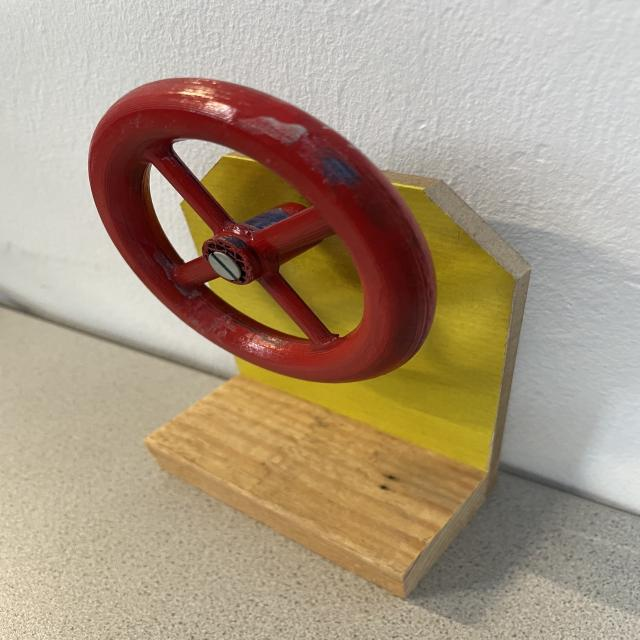Wheel Handle Valve Threaded: (78, 70, 446, 402)
